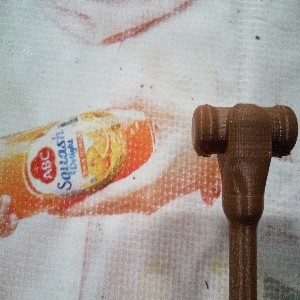palu: (190, 101, 299, 300)
